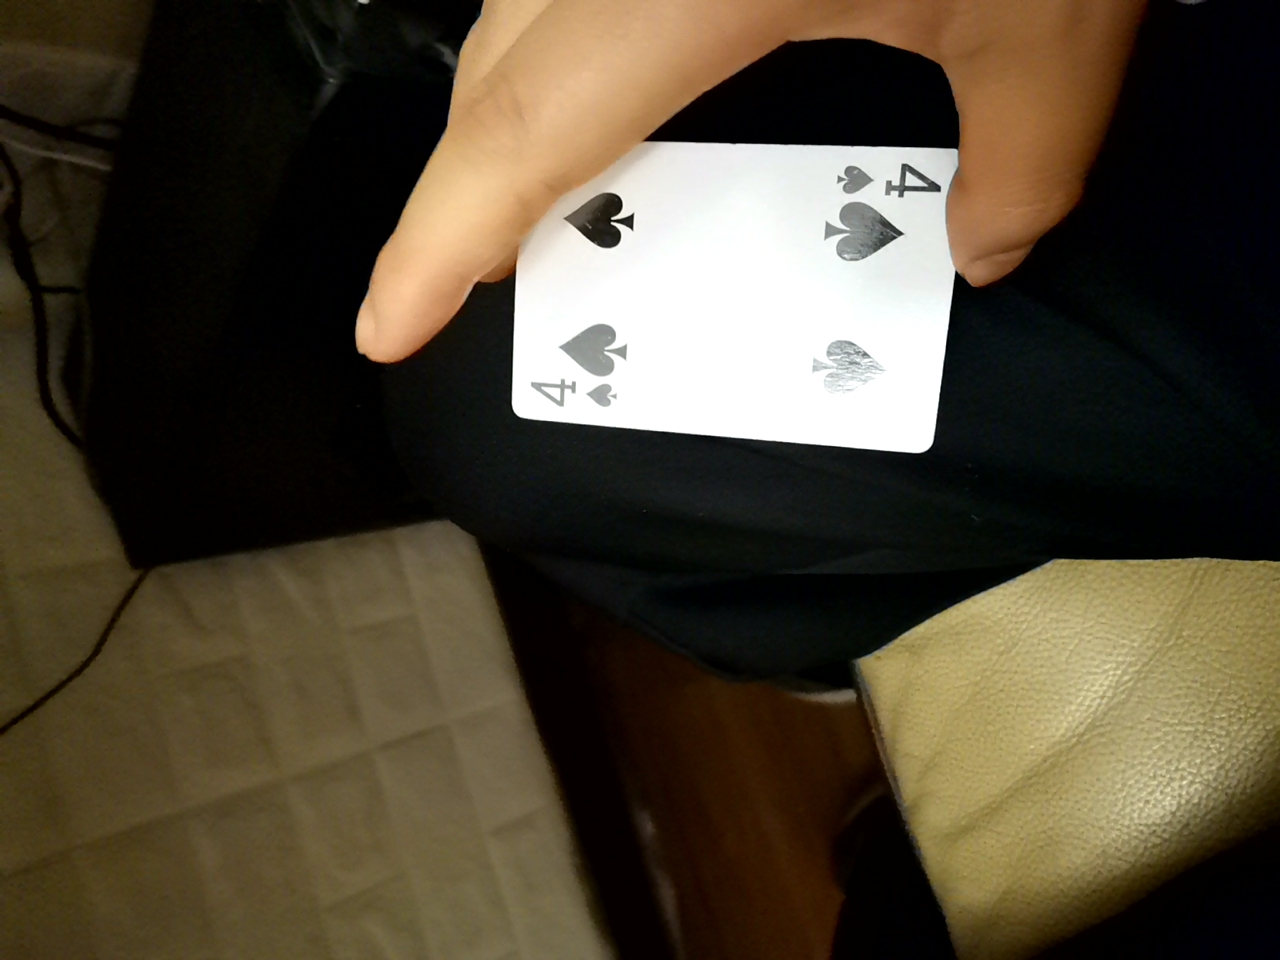ht 4: (489, 124, 955, 466)
